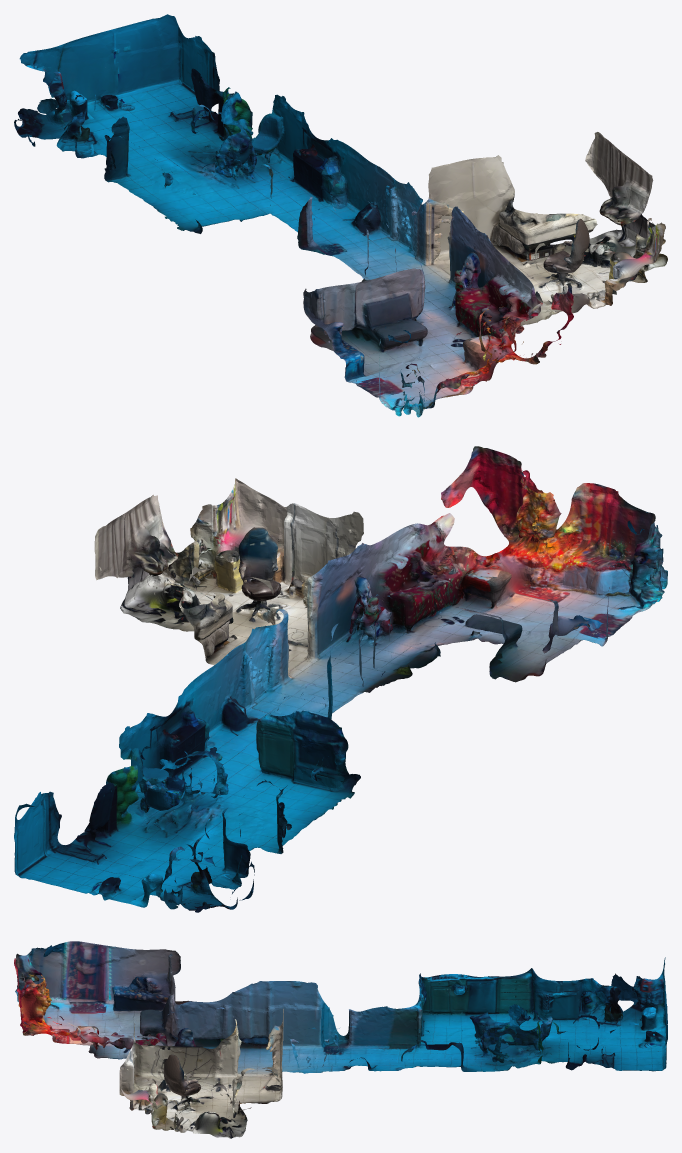
File: 10_28_2026-varias-habitaciones.glb
3 views of the same model, one above another, from view 1: azimuth 30°, elevation 25°; view 2: azimuth 150°, elevation 25°; view 3: azimuth 270°, elevation 25° (orthographic). The views are drawn at different scales.
Size of the model in its own units: 6.9 by 1.84 by 13.74.
Materials: 3 (3 with a texture image).
